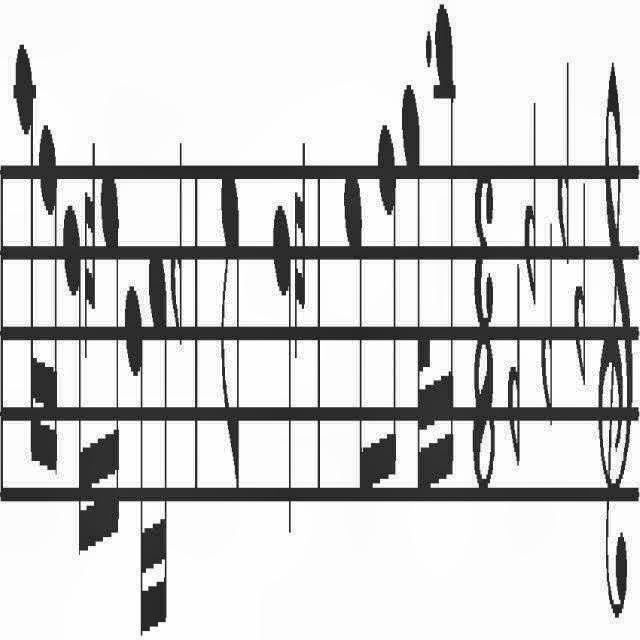Bass-clef: (598, 55, 634, 630)
Bemol: (557, 54, 571, 274), (169, 135, 183, 353), (574, 173, 586, 401), (524, 92, 536, 316), (508, 258, 520, 478), (542, 222, 554, 436)
Eighth-note: (342, 160, 373, 496), (376, 119, 396, 498), (220, 164, 240, 504)
Quarter-note: (270, 199, 292, 541)
Sixteenth-note: (12, 42, 38, 474), (62, 196, 90, 584), (434, 0, 454, 498), (99, 164, 121, 548), (124, 282, 148, 628), (38, 116, 58, 487), (149, 246, 167, 640)
